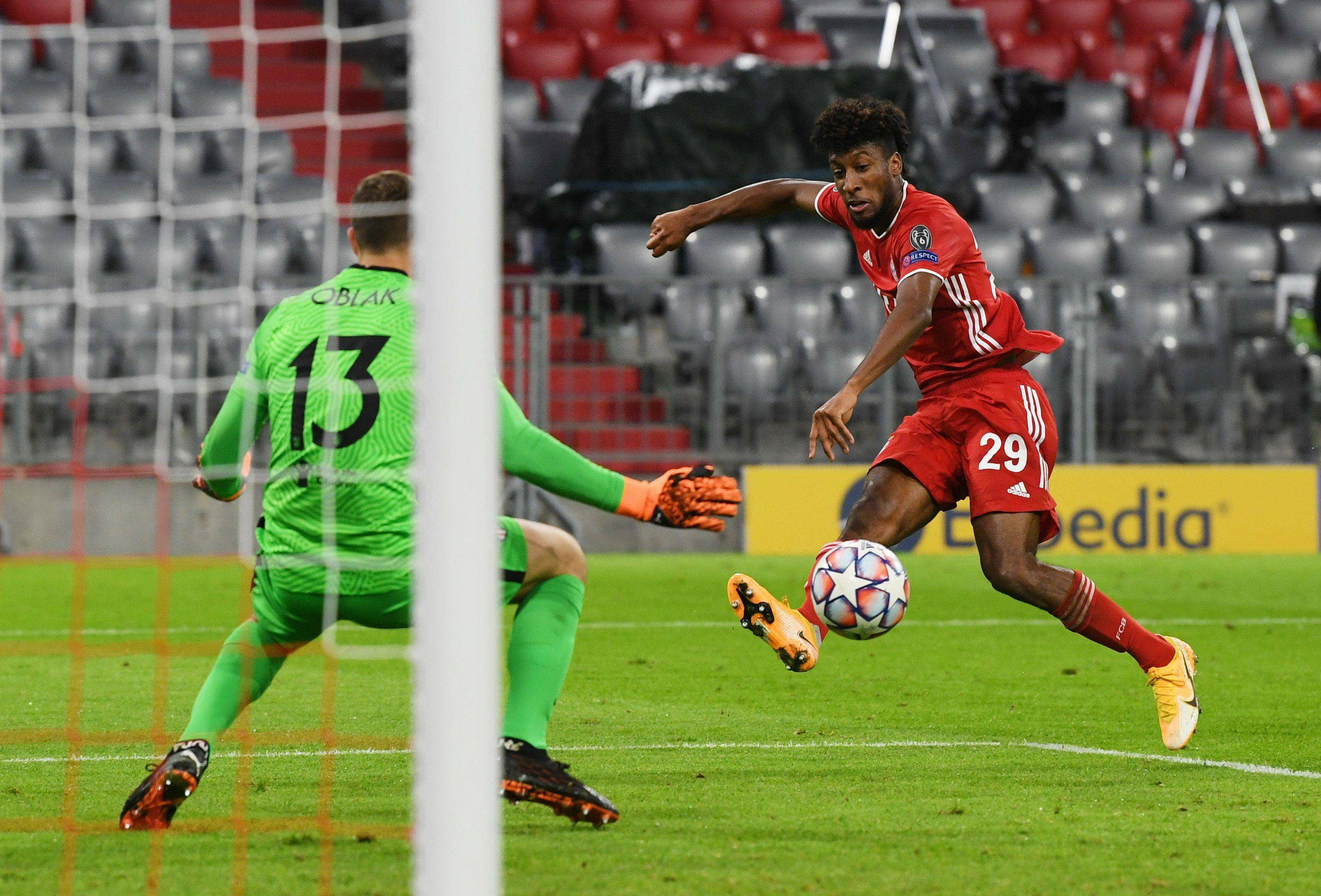football: (809, 540, 909, 641)
